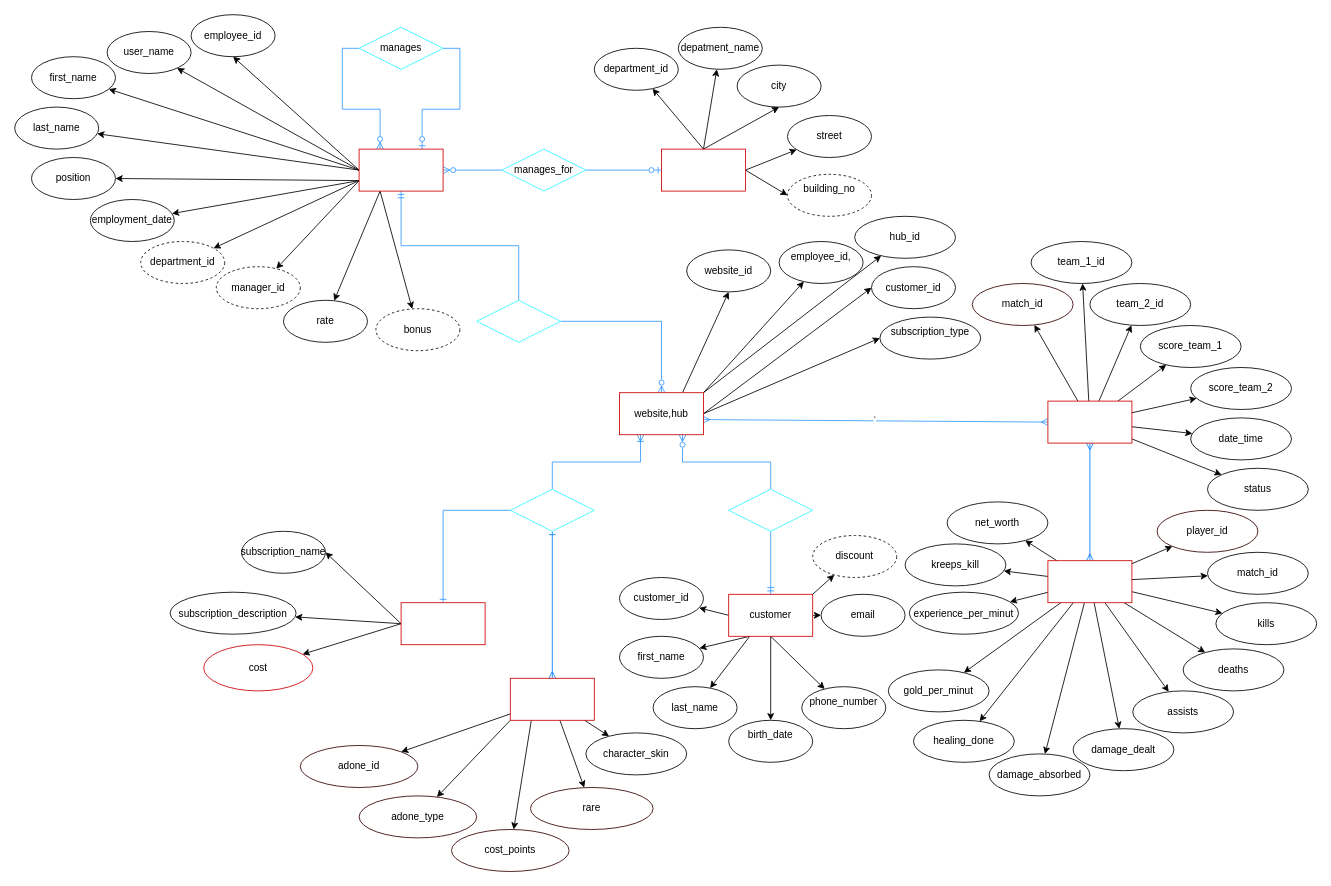
The diagram is 1331 pixels wide and 886 high, and some of its shapes have lost their labels. Here are the shapes that lost their labels. From the top down, the box of each, then its label:
(358, 148, 443, 191): employee
(661, 148, 746, 191): departament
(476, 299, 561, 342): server
(1047, 400, 1132, 443): match
(509, 488, 594, 531): buys
(728, 488, 813, 531): use
(1047, 560, 1132, 603): match stats
(400, 602, 485, 645): subscription
(509, 677, 594, 720): adone
